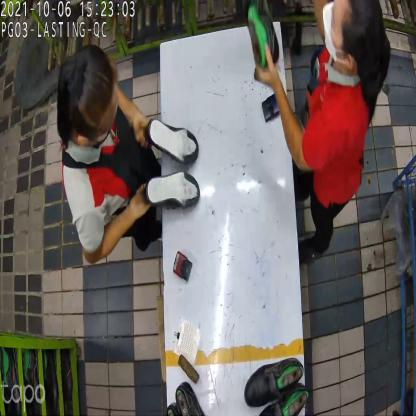shoes: (147, 110, 203, 218), (243, 354, 309, 416)
stamp: (172, 251, 194, 283), (259, 92, 279, 126)
